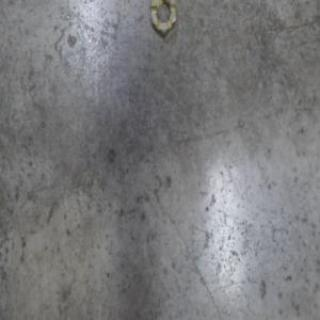Nuttrack_idkeyframe: (148, 0, 177, 41)
